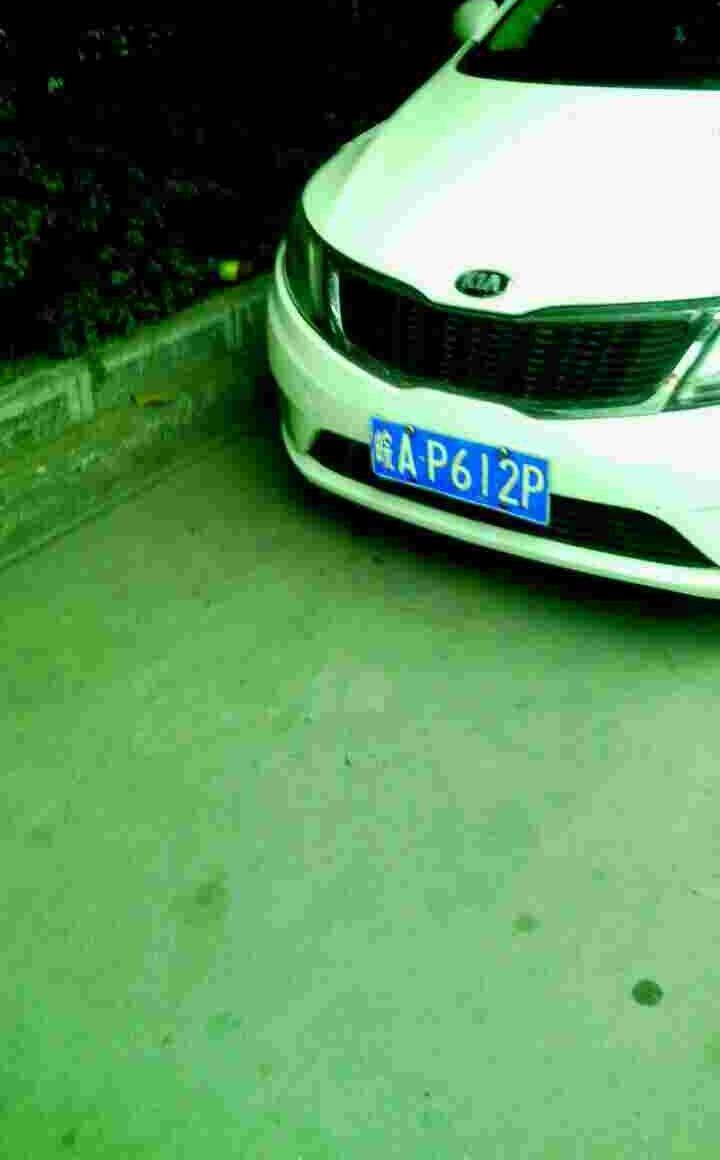license_plate: (364, 414, 558, 526)
